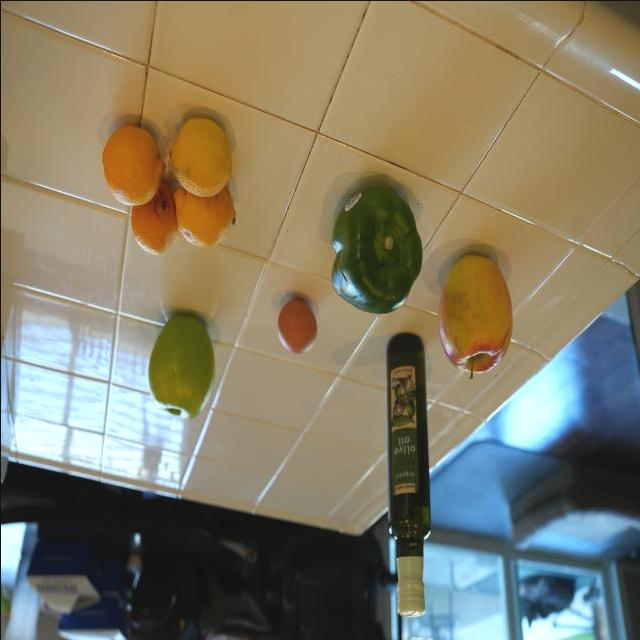bell_pepper: (320, 178, 436, 323)
egg: (273, 294, 321, 360)
